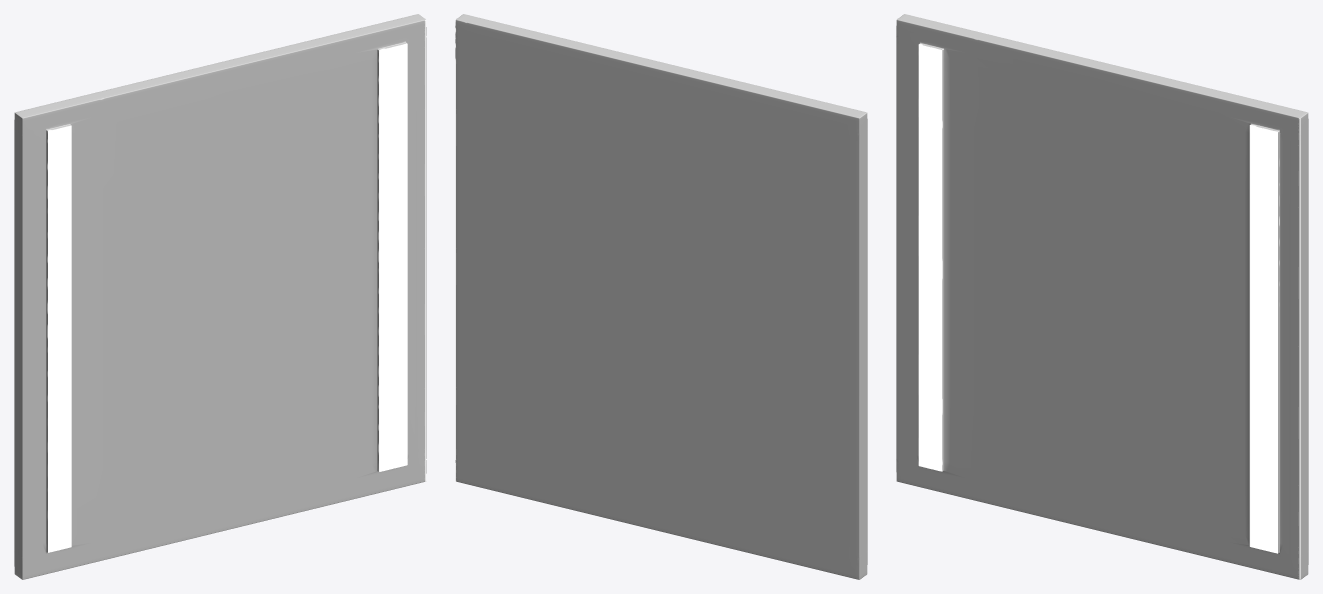
File: Mirror_004.gltf
3 views of the same model, side by side, from view 1: azimuth 30°, elevation 25°; view 2: azimuth 150°, elevation 25°; view 3: azimuth 330°, elevation 25° (orthographic).
Visible parts, largest first — view 1: Mirror_004; view 2: Mirror_004; view 3: Mirror_004.
Boxes of the visible parts, x1,y1,x2,y2 form: Mirror_004: [14, 14, 426, 579]; Mirror_004: [455, 14, 867, 579]; Mirror_004: [896, 14, 1308, 579].
Size of the model in its own units: 0.9325 by 1.02 by 0.0394.
Materials: 1 (1 with a texture image).
